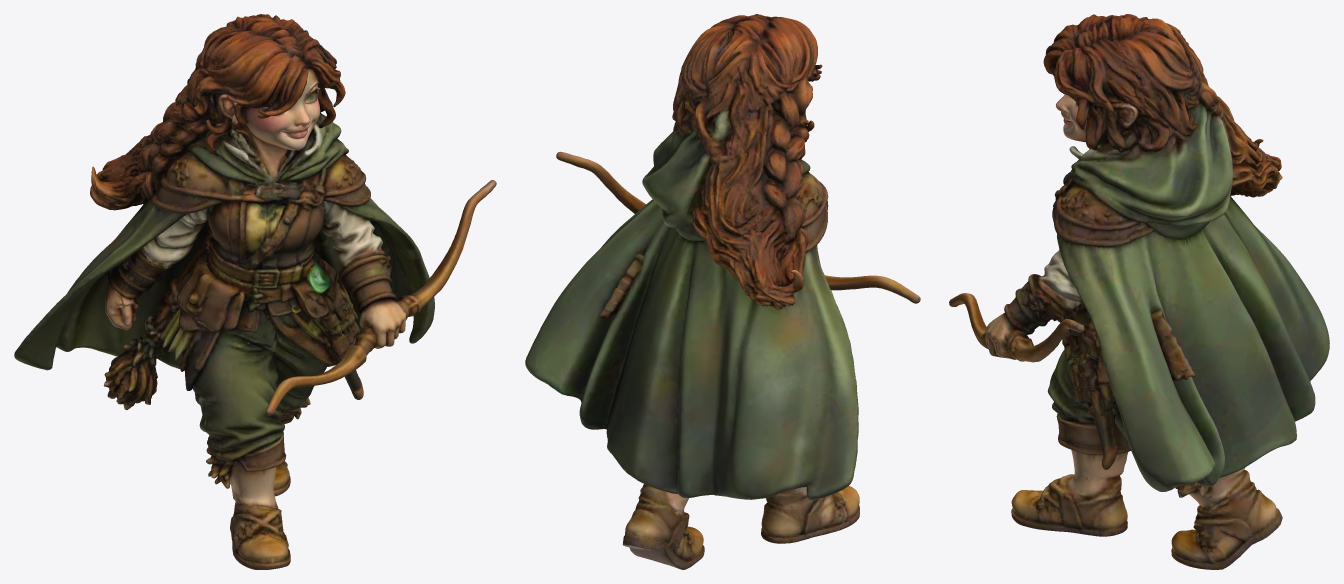
Rendered from halflingarcher.glb.
The picture shows the model from 3 angles, left to right: view 1: azimuth 30°, elevation 25°; view 2: azimuth 150°, elevation 25°; view 3: azimuth 270°, elevation 25°; orthographic projection. The views are drawn at different scales.
Size of the model in its own units: 1.53 by 1.9 by 1.27.
1 material, 1 textured.
